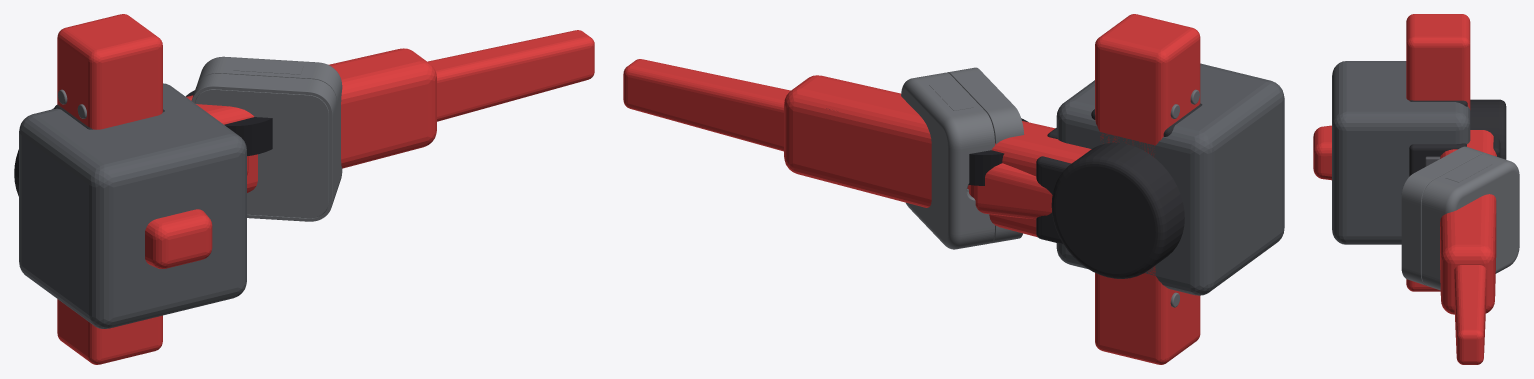
The model's file is arm.glb.
3 renders of one model, left to right at view 1: azimuth 30°, elevation 25°; view 2: azimuth 150°, elevation 25°; view 3: azimuth 270°, elevation 25°, orthographic. The views are drawn at different scales.
Parts seen in each view (by area): view 1: b1, b7, b4, b3, b2, b5; view 2: b7, b1, b3, b4, b5; view 3: b7, b1, b4, b3, b2.
Boxes of the visible parts, x1=… form: b1: x1=19, y1=83, x2=246, y2=328; b7: x1=57, y1=14, x2=342, y2=364; b4: x1=186, y1=48, x2=436, y2=192; b3: x1=14, y1=30, x2=594, y2=196; b2: x1=54, y1=104, x2=212, y2=268; b5: x1=185, y1=90, x2=272, y2=175; b7: x1=901, y1=14, x2=1200, y2=364; b1: x1=1056, y1=63, x2=1284, y2=295; b3: x1=623, y1=59, x2=1184, y2=278; b4: x1=784, y1=75, x2=1091, y2=244; b5: x1=826, y1=108, x2=1063, y2=240; b7: x1=1401, y1=14, x2=1519, y2=291; b1: x1=1332, y1=61, x2=1470, y2=244; b4: x1=1440, y1=130, x2=1499, y2=314; b3: x1=1454, y1=99, x2=1506, y2=364; b2: x1=1313, y1=100, x2=1467, y2=180.
Size of the model in its own units: 0.1952 by 0.1016 by 0.0746.
